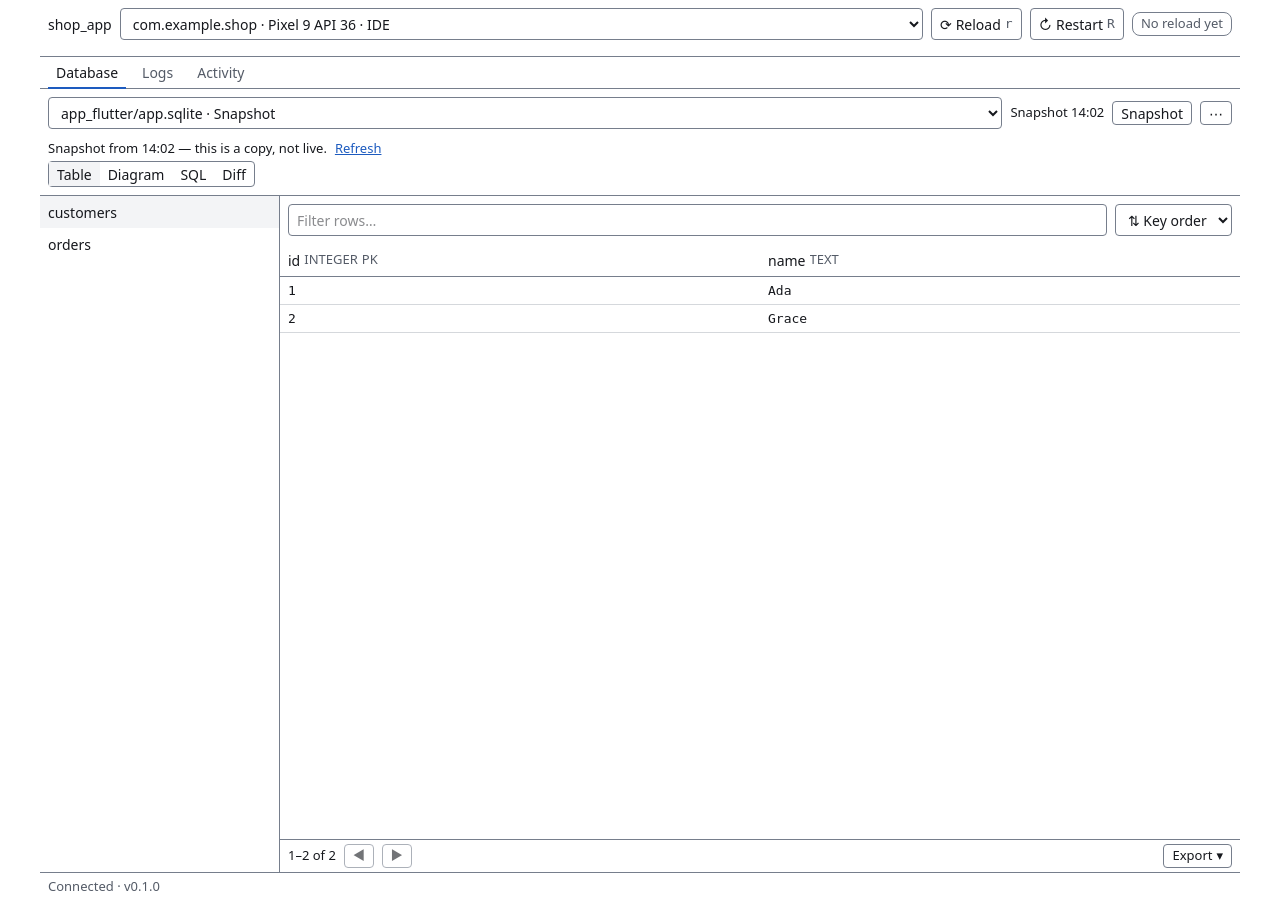
Scenario: Snapshot time (QA B4-1) › shows the copy time once the first read has taken the copy, and after Refresh
This screenshot has width=1280, height=900.
Expected: the text "Snapshot from 14:02 — this is a copy, not live." is shown, [48, 139, 327, 159]
Expected: the text "Snapshot 14:02" is shown, [1010, 103, 1104, 123]
Click the button "Refresh" at [358, 149], box [331, 137, 386, 161]
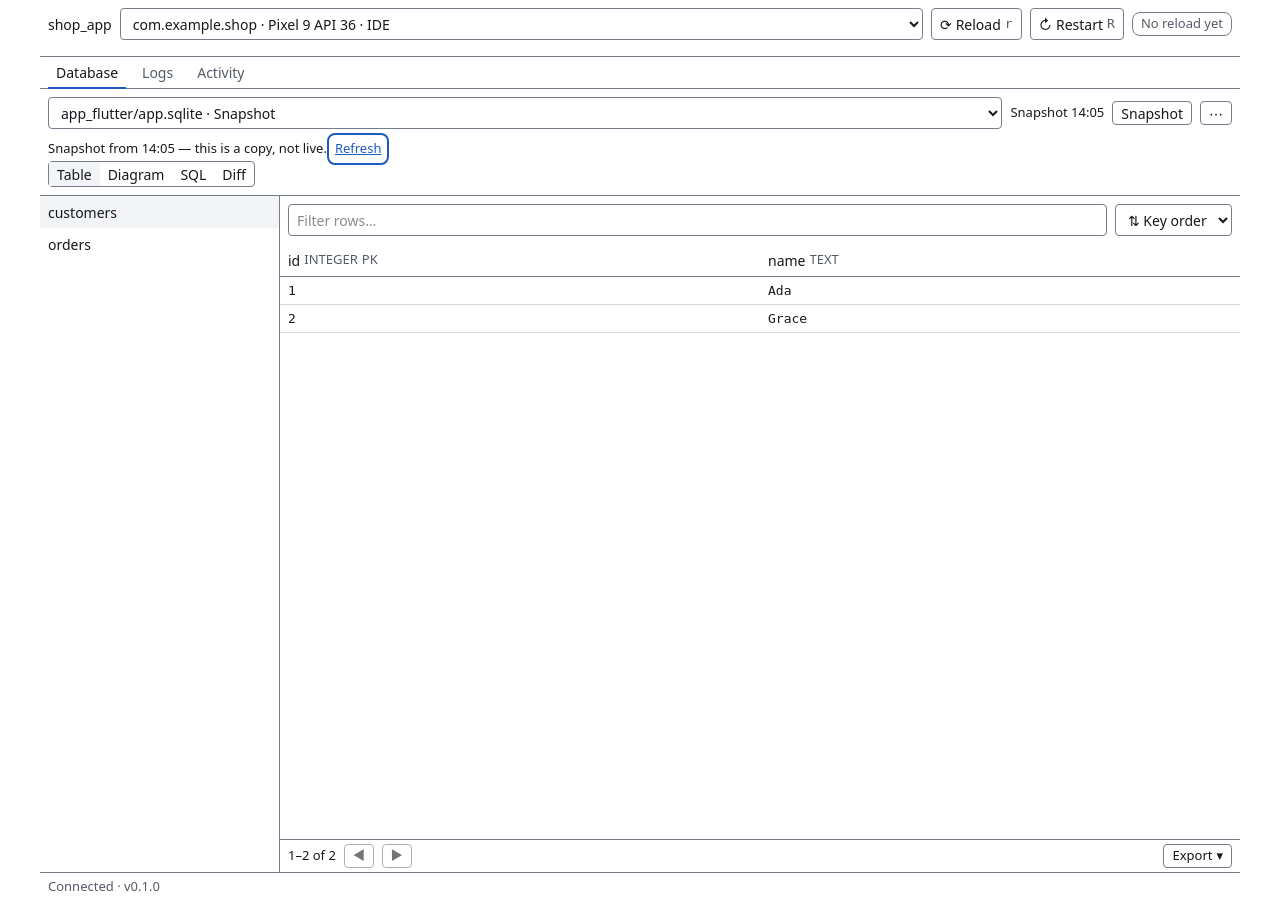
Now the text "Snapshot from 14:05 — this is a copy, not live." is shown, box [48, 139, 327, 159]
